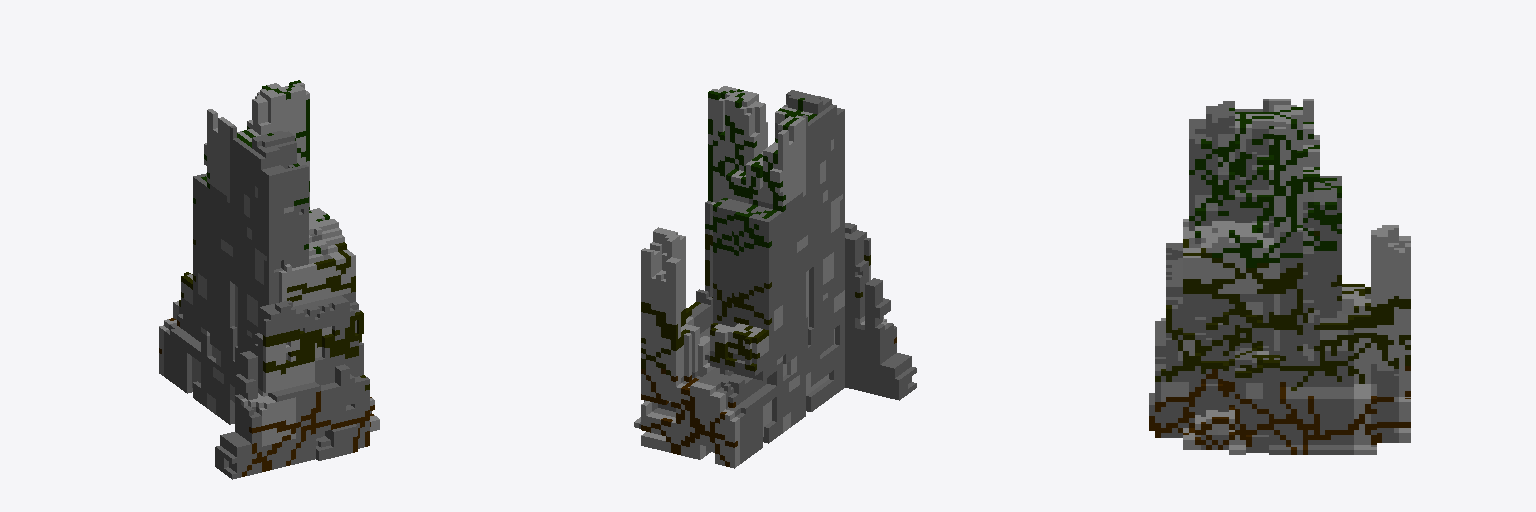
The picture shows the model from 3 angles: view 1: azimuth 30°, elevation 25°; view 2: azimuth 150°, elevation 25°; view 3: azimuth 270°, elevation 25°; orthographic projection.
Parts seen in each view (by area): view 1: object 1; view 2: object 1; view 3: object 1.
Part boxes in pixels (left/top/right/bottom): object 1: left=159, top=80, right=379, bottom=479; object 1: left=634, top=86, right=916, bottom=468; object 1: left=1149, top=99, right=1410, bottom=454.
Bounding box in the file's own units: 3.5 × 6.1 × 4.6.
1 materials, 1 textured.